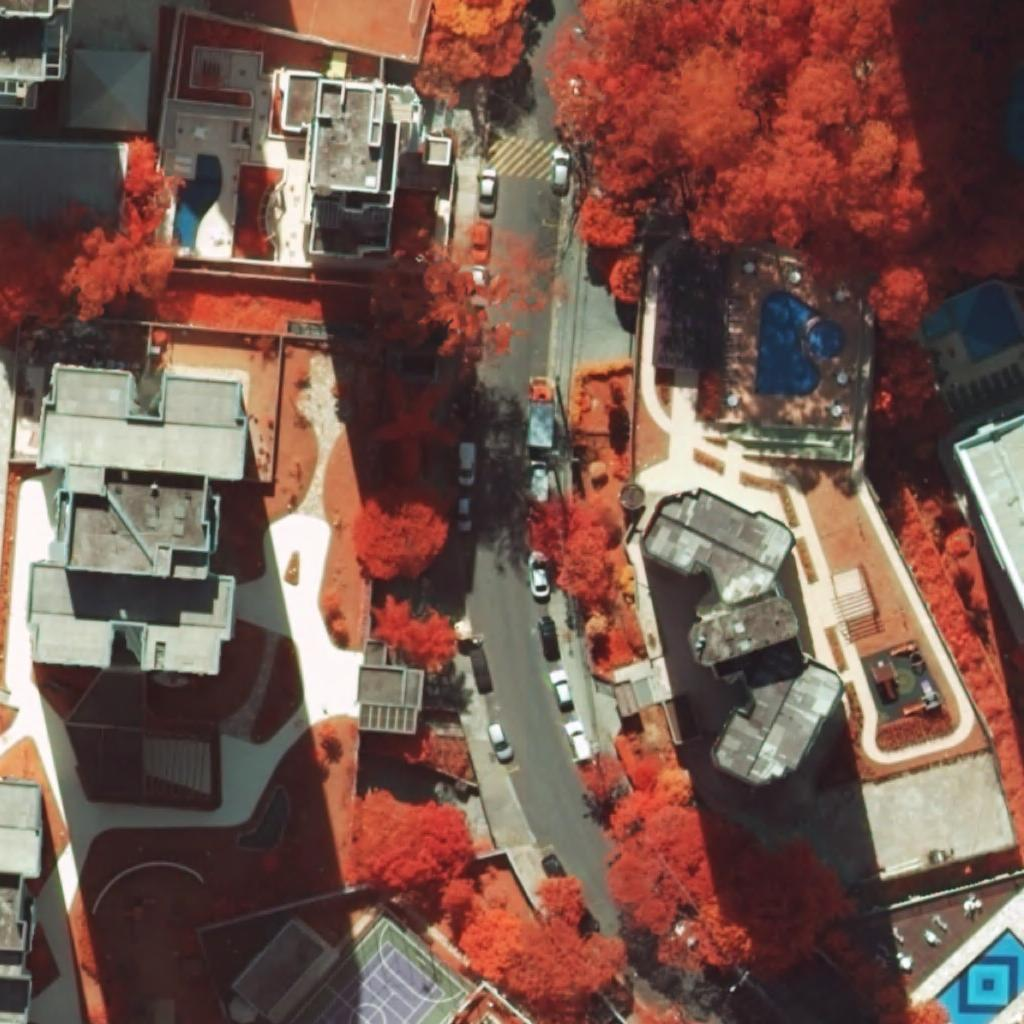pool: (934, 927, 1024, 1023), (920, 283, 1024, 365), (754, 291, 821, 395), (173, 154, 223, 251), (808, 321, 846, 357)
